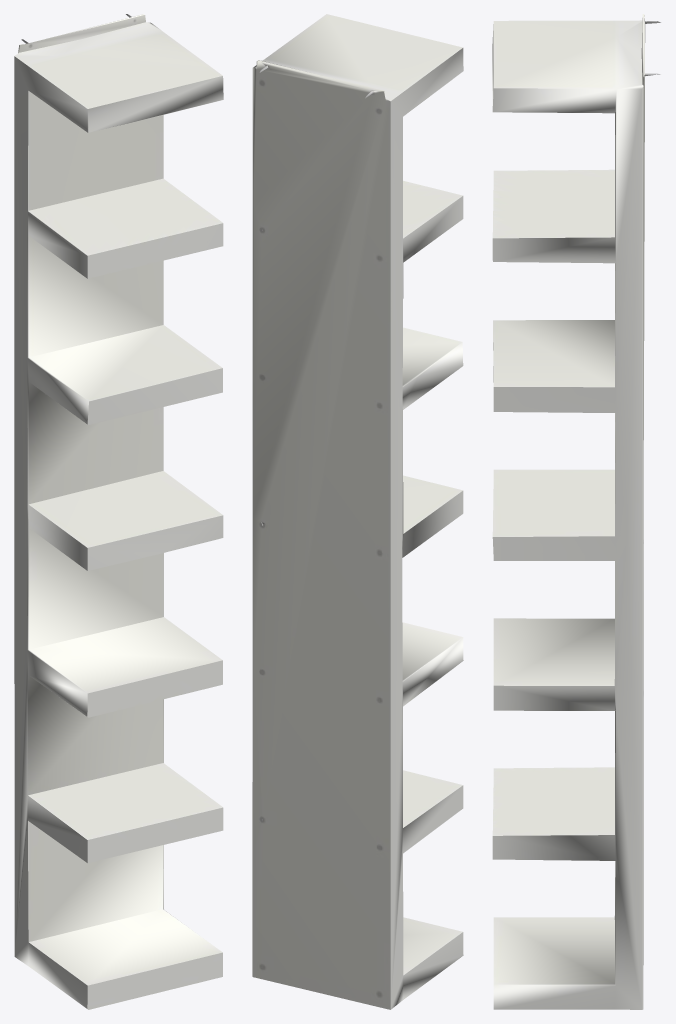
The model's file is lack_poka_scienna_60282186.glb.
3 views of the same model, side by side, from view 1: azimuth 30°, elevation 25°; view 2: azimuth 150°, elevation 25°; view 3: azimuth 270°, elevation 25° (orthographic). The views are drawn at different scales.
Parts seen in each view (by area): view 1: lack_poka_scienna_60282186; view 2: lack_poka_scienna_60282186; view 3: lack_poka_scienna_60282186.
Boxes of the visible parts, x1,y1,x2,y2 form: lack_poka_scienna_60282186: (14,14,223,1009); lack_poka_scienna_60282186: (252,14,463,1009); lack_poka_scienna_60282186: (492,14,660,1009).
Bounding box in the file's own units: 0.3023 × 1.92 × 0.3161.
Materials: 1 (1 with a texture image).
